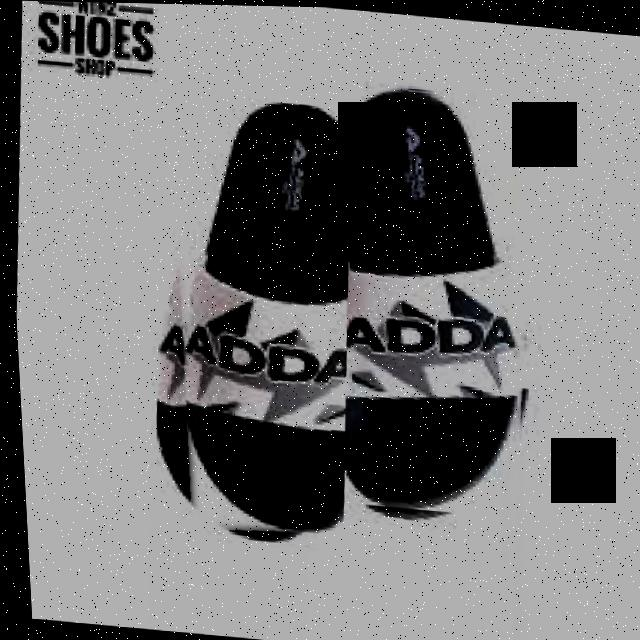shoe: (130, 60, 554, 563), (139, 91, 367, 542), (321, 79, 554, 518)
